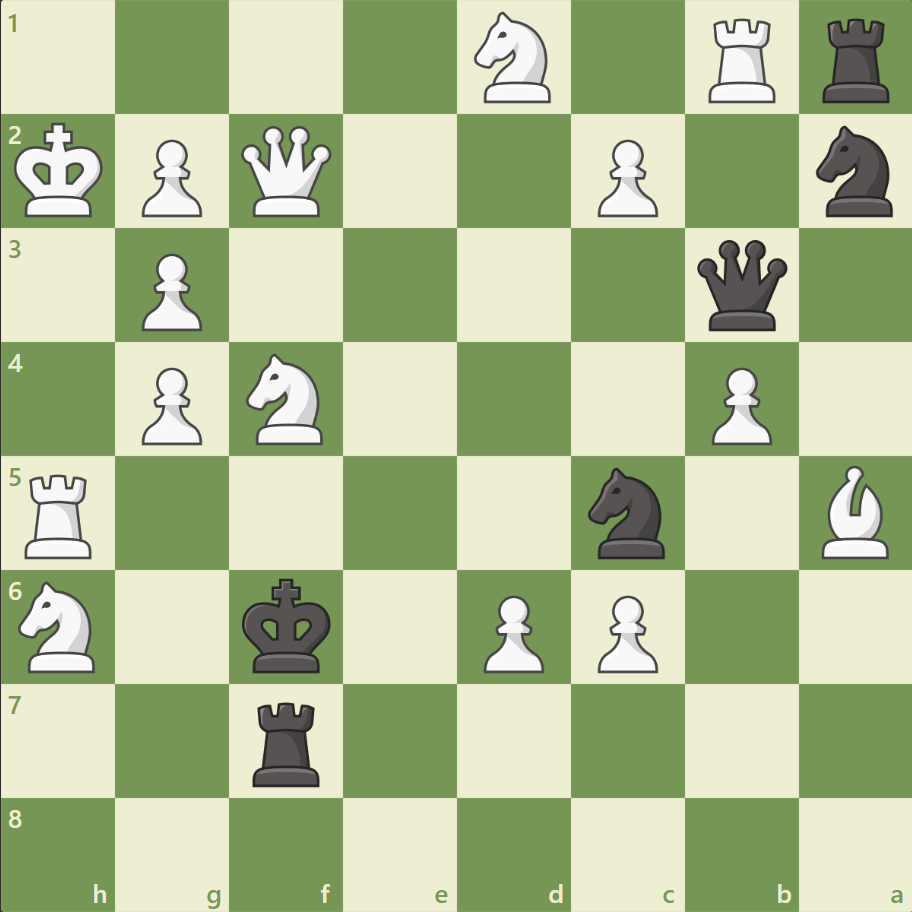B: (812, 460, 896, 563)
K: (11, 117, 111, 225)
N: (465, 7, 562, 110), (11, 575, 108, 677), (238, 348, 335, 450)
P: (474, 586, 549, 677), (701, 359, 776, 450), (133, 359, 208, 450), (133, 246, 208, 337), (133, 132, 208, 223), (588, 586, 662, 677), (588, 132, 662, 223)
Q: (237, 122, 336, 222)
R: (19, 466, 102, 563), (700, 12, 783, 109)
k: (238, 571, 338, 679)
n: (579, 461, 676, 564), (806, 121, 903, 223)
q: (691, 236, 790, 335)
r: (246, 693, 329, 790), (814, 12, 897, 109)
